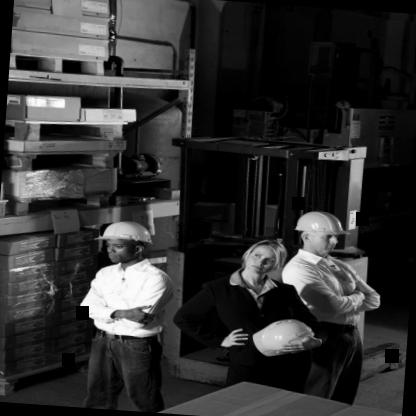head: (230, 235, 292, 280)
helmet: (295, 208, 352, 256), (93, 219, 152, 265)
